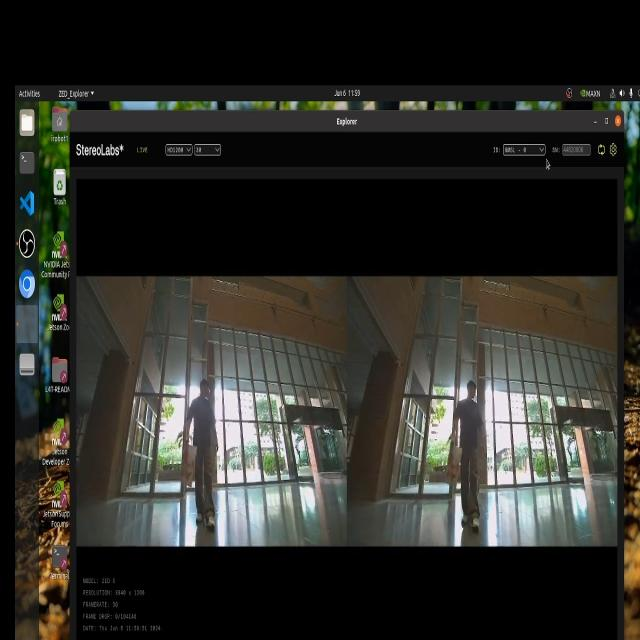red: (439, 447, 462, 497), (182, 444, 204, 491)
